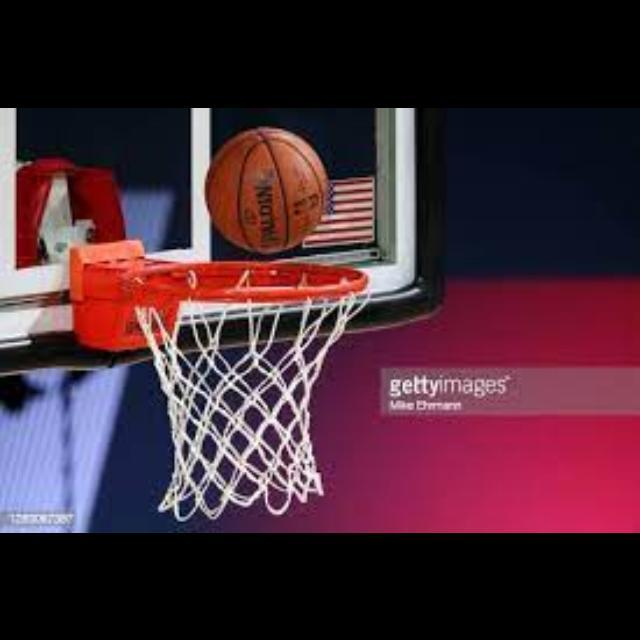basketball: (206, 131, 332, 251)
rim: (134, 259, 366, 511)
